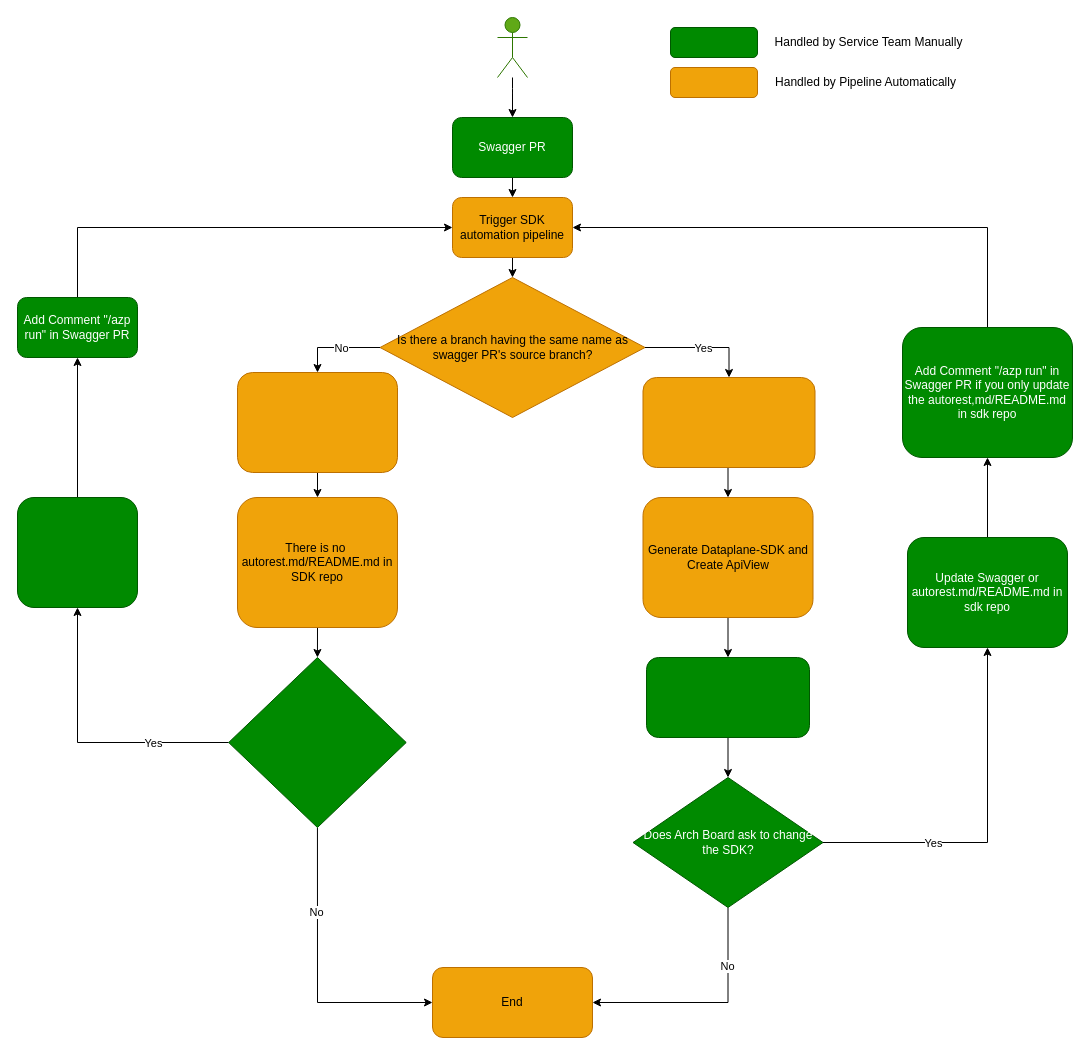
Some shapes in this 1090 by 1055 pixel diagram are drawn without their labels. Each missing label, with the centre of its shape:
"Ask Arch Board to review the ApiView" belongs at (728,697).
"Create branch in SDK repo, which has the same name as swagger PR's source branch" belongs at (77,552).
"Need to Generate SDK and ApiView?" belongs at (317,742).
"Work on SDK repo main branch" belongs at (317,422).
"Work on the branch of SDK repo" belongs at (728,422).
